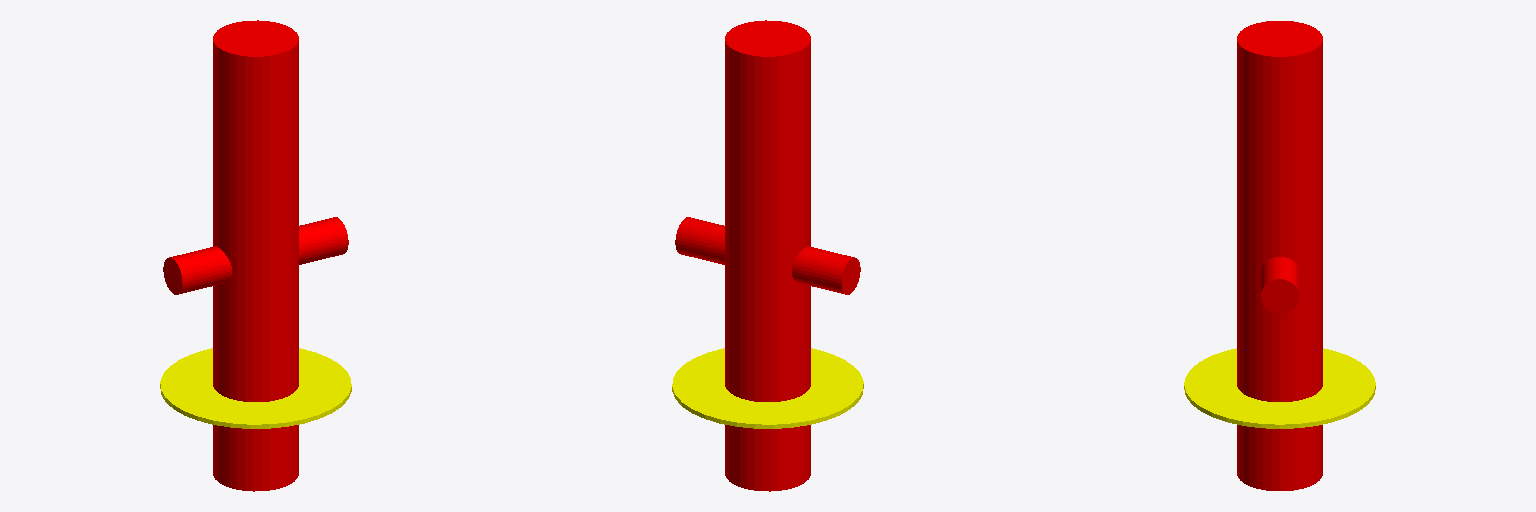
robot.urdf — pan_tilt:
<?xml version="1.0"?>
<robot name="pan_tilt">
    <link name="base_link">
        <visual>
            <geometry>
                <cylinder length="0.01" radius="0.2" />
            </geometry>
            <origin rpy="0 0 0" xyz="0 0 0" />
            <material name="yellow">
                <color rgba="1 1 0 1" />
            </material>
        </visual>
    </link>

    <joint name="pan_joint" type="revolute">
        <parent link="base_link" />
        <child link="pan_link" />
        <origin xyz="0 0 0.1" />
        <axis xyz="0 0 1" />
        <limit effort="300.0" velocity="0.1" lower="-3.14" upper="3.14"/>
        <dynamics damping="50" friction="1"/>
    </joint>

    <link name="pan_link">
        <visual>
            <geometry>
                <cylinder length="0.4" radius="0.04" />
            </geometry>
            <origin rpy="0 0 0" xyz="0 0 0.09" />
            <material name="red">
                <color rgba="0 0 1 1"/>
            </material>
        </visual>
    </link>

    <joint name="tilt_joint" type="revolute">
        <parent link="pan_link" />
        <child link="tilt_link" />
        <origin xyz="0 0 0.2" />
        <axis xyz="0 1 0" />
        <limit effort="300.0" velocity="1.0" lower="-4.71239" upper="-1.570796"/>
        <dynamics damping="50" friction="1" />
    </joint>

    <link name="tilt_link">
        <visual>
            <geometry>
                <cylinder length="0.4" radius="0.04" />
            </geometry>
            <origin rpy="0 1.570796 0" xyz="0 0 0" />
            <material name="green">
                <color rgba="1 0 0 1" />
            </material>
        </visual>
    </link>

    <joint name="textjoint" type="revolute">
        <parent link="tilt_link" />
        <child link="test_link" />
        <origin xyz="0 0 0" />
        <axis xyz="0 0 2" />
        <limit effort="300.0" velocity="1.0" lower="-4.71239" upper="-1.570796"/>
        <dynamics damping="50" friction="1" />
    </joint>

    <link name="test_link">
        <visual>
            <geometry>
                <cylinder length="1.0" radius="0.09" />
            </geometry>
            <origin rpy="0 0 0" xyz="0 0 0" />
            <material name="red">
                <color rgba="1 0 0 1" />
            </material>
        </visual>
    </link>
</robot>

--- What the picture shows (computed from the rendered views, not written in the file) ---
Views: 3 orthographic renders of the robot side by side, from view 1: azimuth 30°, elevation 25°; view 2: azimuth 150°, elevation 25°; view 3: azimuth 270°, elevation 25°.
Robot: pan_tilt — 4 links, 3 joints (3 revolute); root link base_link; default pose: joints at zero except 2 at the middle of their limits (tilt_joint = -3.14, textjoint = -3.14).
Visible links, largest first — view 1: test_link, base_link, tilt_link; view 2: test_link, base_link, tilt_link; view 3: test_link, base_link, tilt_link.
Boxes of the visible links, bbox=[...] form: test_link: bbox=[213, 20, 298, 491]; base_link: bbox=[160, 348, 351, 428]; tilt_link: bbox=[163, 217, 348, 294]; test_link: bbox=[725, 20, 810, 491]; base_link: bbox=[672, 348, 863, 428]; tilt_link: bbox=[675, 217, 860, 294]; test_link: bbox=[1237, 21, 1322, 490]; base_link: bbox=[1184, 348, 1375, 428]; tilt_link: bbox=[1261, 257, 1298, 313].
Size in the robot's own frame: 0.4 by 0.4 by 1 metres.
Geometry: primitives only (box / cylinder / sphere), no mesh files.